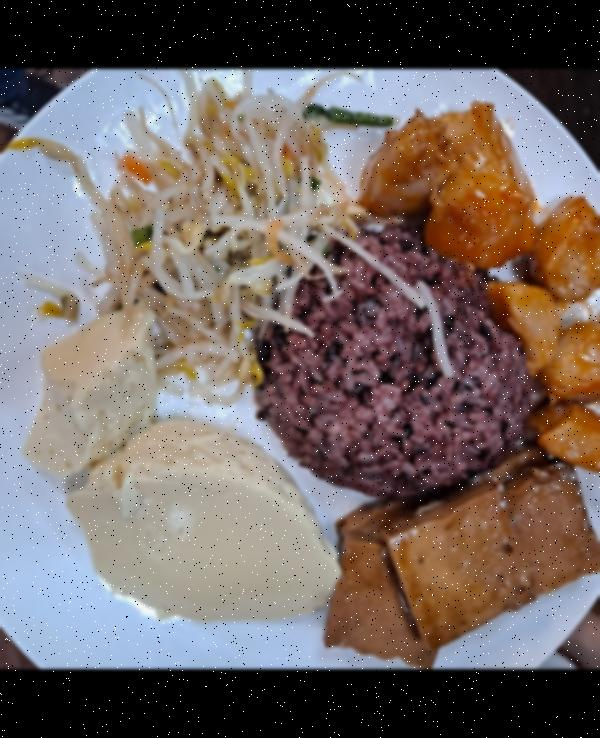plate: (0, 70, 600, 666)
purple rice: (268, 238, 526, 484)
side dish: (29, 332, 313, 631), (94, 94, 328, 368), (327, 469, 600, 656)
spicy chicken: (370, 102, 600, 489)
